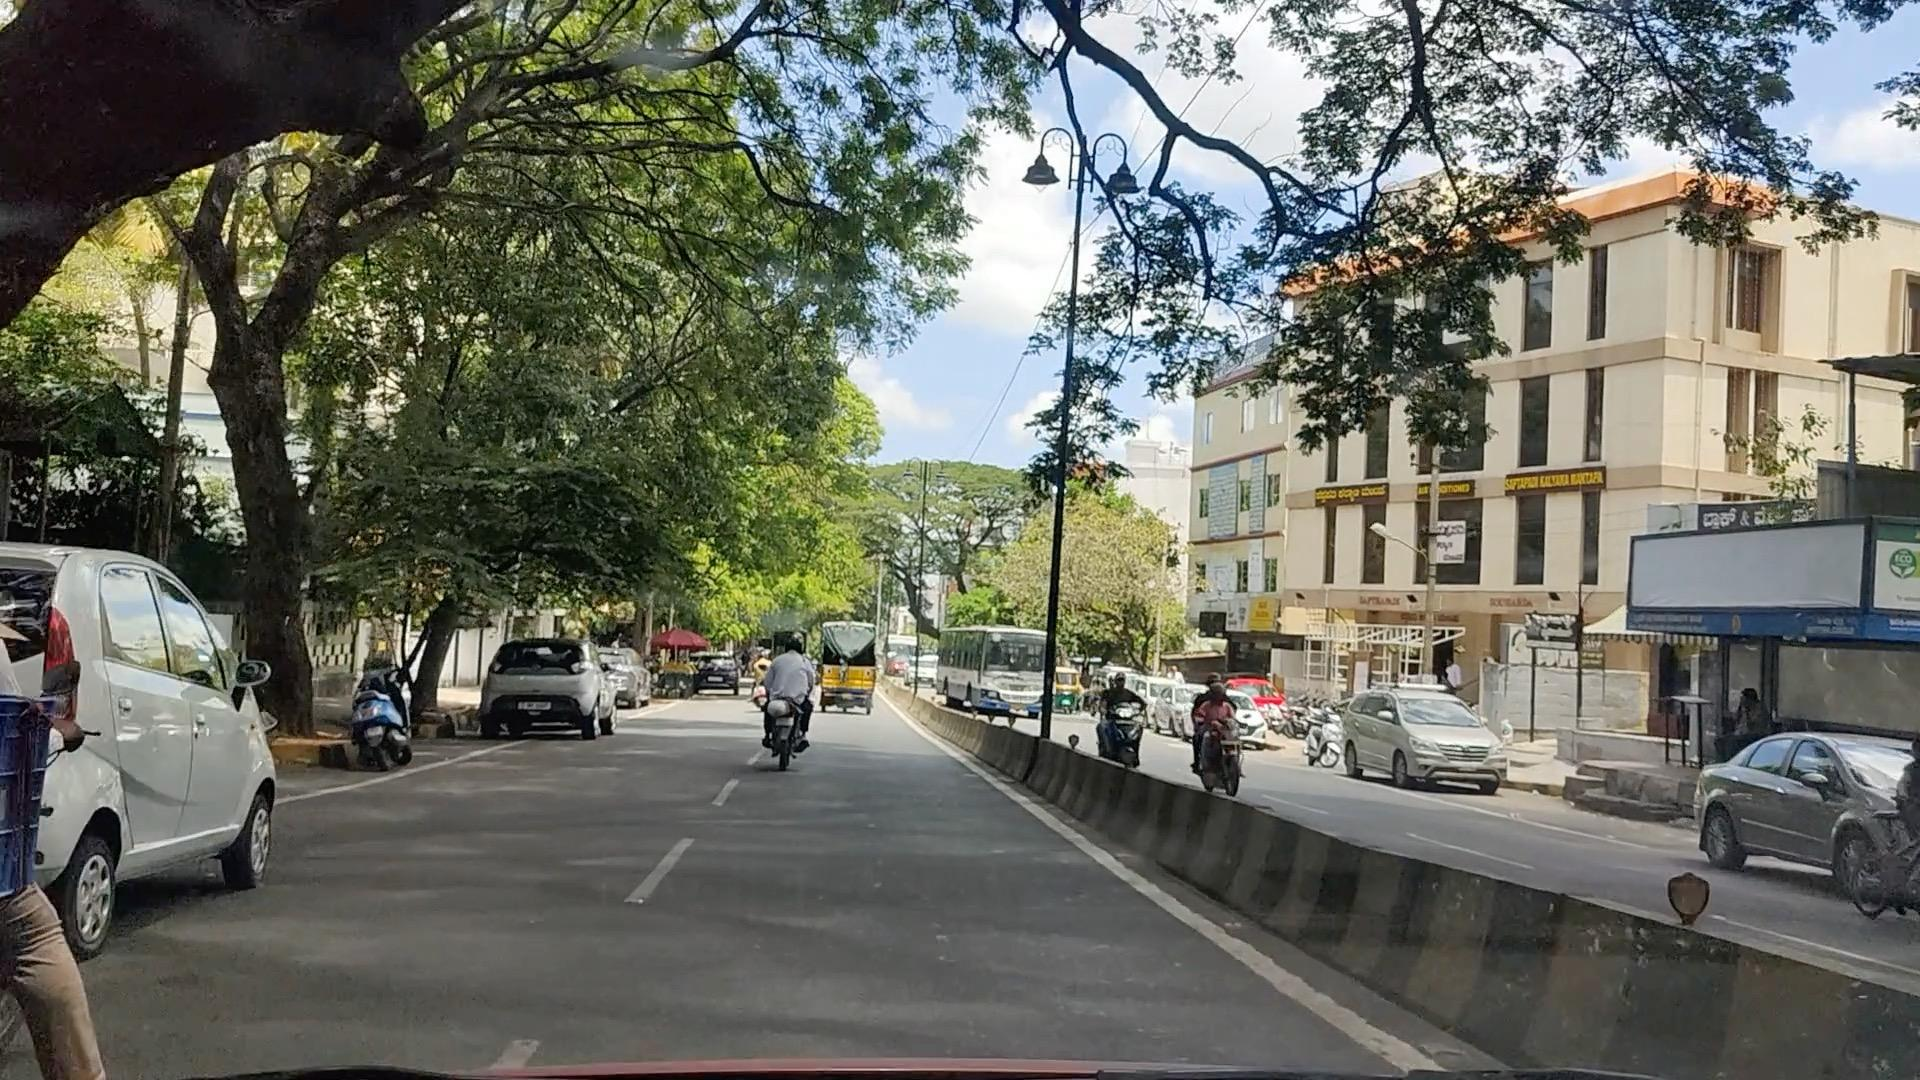LMV: (476, 646, 612, 733), (753, 611, 816, 779)
